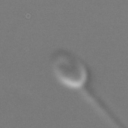normal: (80, 85, 128, 128)
